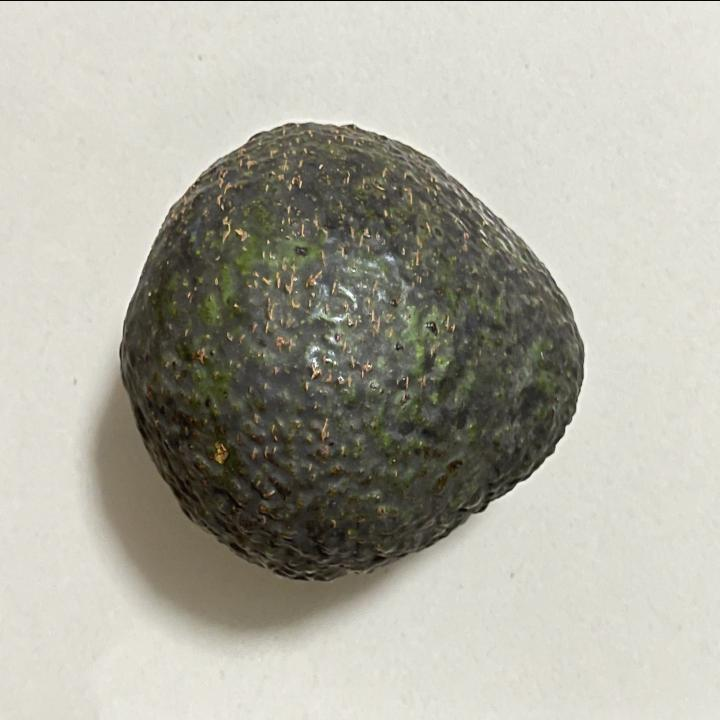Level1: (106, 105, 600, 590)
